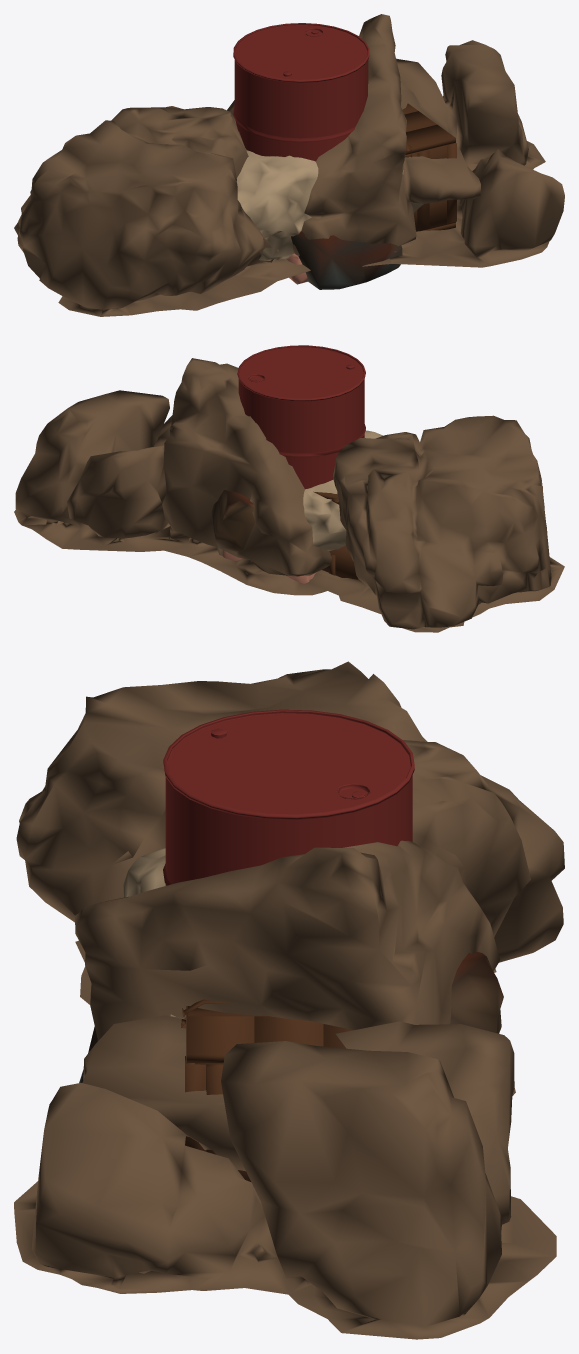
File: props-common.glb
3 renders of one model, top to bottom at view 1: azimuth 30°, elevation 25°; view 2: azimuth 150°, elevation 25°; view 3: azimuth 270°, elevation 25°, orthographic. The views are drawn at different scales.
Parts seen in each view (by area): view 1: boulder-a_LOD0, barrel-rusty_LOD0, boulder-b_LOD0, stones-small_LOD0, crate-military_LOD0; view 2: boulder-a_LOD0, barrel-rusty_LOD0, boulder-b_LOD0, stones-small_LOD0, crate-military_LOD0; view 3: boulder-a_LOD0, barrel-rusty_LOD0, crate-military_LOD0, stones-small_LOD0, boulder-b_LOD0.
Boxes of the visible parts, bbox=[...] form: boulder-a_LOD0: bbox=[14, 14, 564, 316]; barrel-rusty_LOD0: bbox=[233, 23, 369, 161]; boulder-b_LOD0: bbox=[236, 150, 423, 260]; stones-small_LOD0: bbox=[291, 231, 402, 289]; crate-military_LOD0: bbox=[402, 103, 456, 231]; boulder-a_LOD0: bbox=[14, 358, 564, 632]; barrel-rusty_LOD0: bbox=[237, 345, 365, 489]; boulder-b_LOD0: bbox=[303, 430, 382, 550]; stones-small_LOD0: bbox=[211, 490, 255, 555]; crate-military_LOD0: bbox=[313, 491, 359, 579]; boulder-a_LOD0: bbox=[14, 661, 564, 1339]; barrel-rusty_LOD0: bbox=[163, 709, 414, 885]; crate-military_LOD0: bbox=[181, 999, 352, 1181]; stones-small_LOD0: bbox=[79, 951, 503, 1082]; boulder-b_LOD0: bbox=[123, 848, 175, 1016].
Size of what is drawn, in the model's own units: 2.52 by 0.8803 by 1.23.
